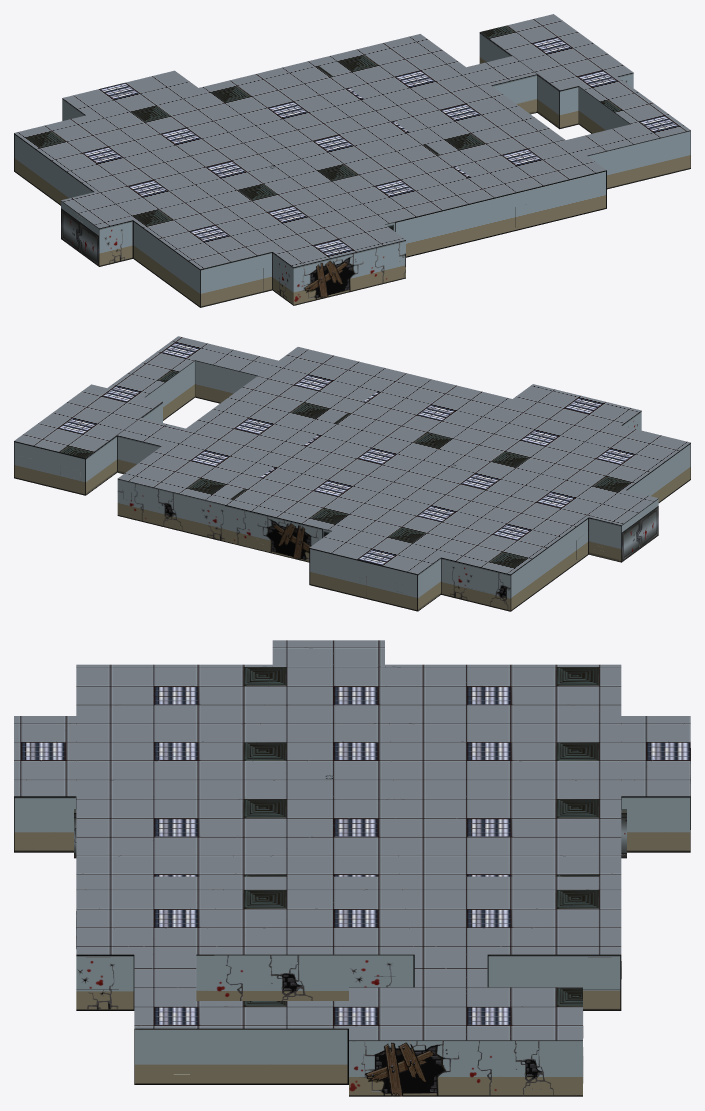
Rendered from zombie3d_hospital.FBX.
The picture shows the model from 3 angles, top to bottom: view 1: azimuth 30°, elevation 25°; view 2: azimuth 150°, elevation 25°; view 3: azimuth 270°, elevation 25°; orthographic projection. The views are drawn at different scales.
Parts seen in each view (by area): view 1: ceiling, wall_17, wall_18, wall_20, wall_19, wall_12, wall_22, wall_14, wall_15, wall_21, wall_08; view 2: ceiling, wall_06, wall_22, wall_05, wall_23, wall_09, wall_20, wall_16, wall_21, wall_14, wall_08, wall_07; view 3: ceiling, wall_10, wall_13, wall_11, wall_02, wall_07.
Boxes of the visible parts, x1,y1,x2,y2 form: ceiling: (14,14,690,269); wall_17: (385,170,606,257); wall_18: (293,240,405,305); wall_20: (99,220,200,307); wall_19: (200,252,293,307); wall_12: (587,130,690,189); wall_22: (14,133,93,205); wall_14: (559,86,630,133); wall_15: (491,74,559,128); wall_21: (61,201,99,266); wall_08: (479,32,511,63); ceiling: (14,336,690,574); wall_06: (117,478,331,562); wall_22: (510,517,621,611); wall_05: (309,548,417,611); wall_23: (418,557,510,611); wall_09: (14,441,85,495); wall_20: (626,443,690,502); wall_16: (195,360,257,403); wall_21: (621,498,658,562); wall_14: (145,360,194,420); wall_08: (85,436,117,495); wall_07: (117,435,161,473); ceiling: (14,640,690,1040); wall_10: (349,1040,582,1096); wall_13: (76,954,414,1010); wall_11: (134,1028,348,1084); wall_02: (14,796,690,858); wall_07: (487,954,621,1010).
Size of the model in its own units: 76.1 by 5.12 by 54.43.
